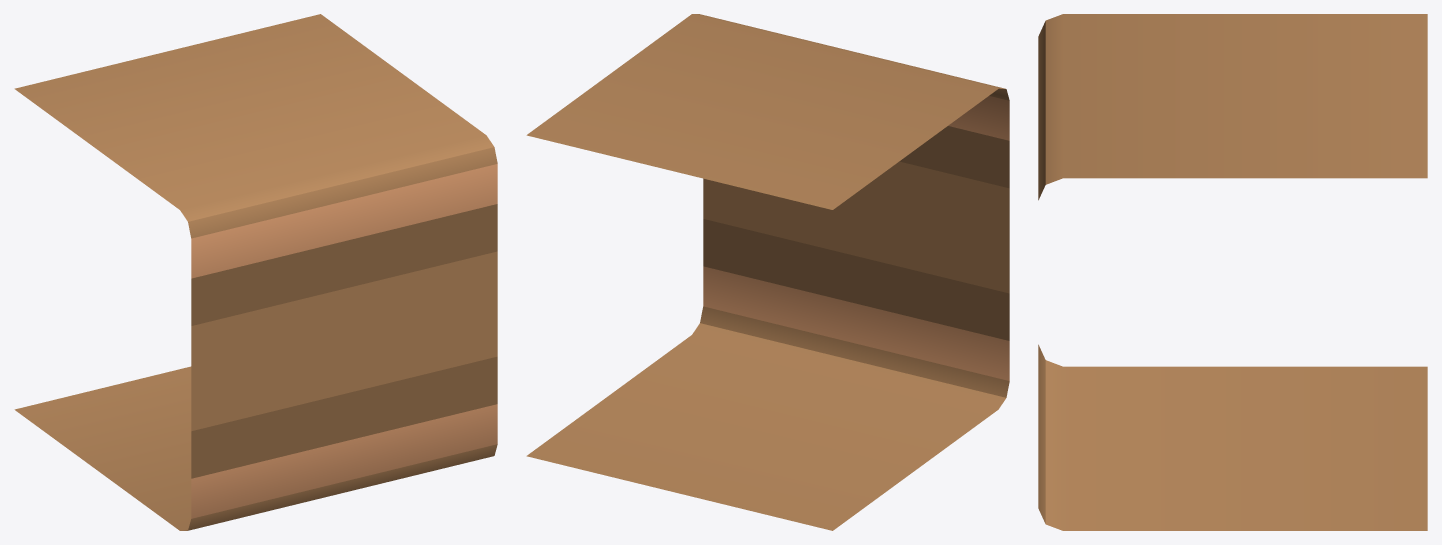
File: quaternius-platformer-game-cube-dirt-side.glb
The picture shows the model from 3 angles, left to right: view 1: azimuth 30°, elevation 25°; view 2: azimuth 150°, elevation 25°; view 3: azimuth 270°, elevation 25°; orthographic projection. The views are drawn at different scales.
Visible parts, largest first — view 1: Cube_Dirt_Side; view 2: Cube_Dirt_Side; view 3: Cube_Dirt_Side.
Boxes of the visible parts, bbox=[...] form: Cube_Dirt_Side: bbox=[14, 14, 497, 530]; Cube_Dirt_Side: bbox=[526, 14, 1009, 530]; Cube_Dirt_Side: bbox=[1038, 14, 1427, 530].
Size of the model in its own units: 2 by 2 by 2.
